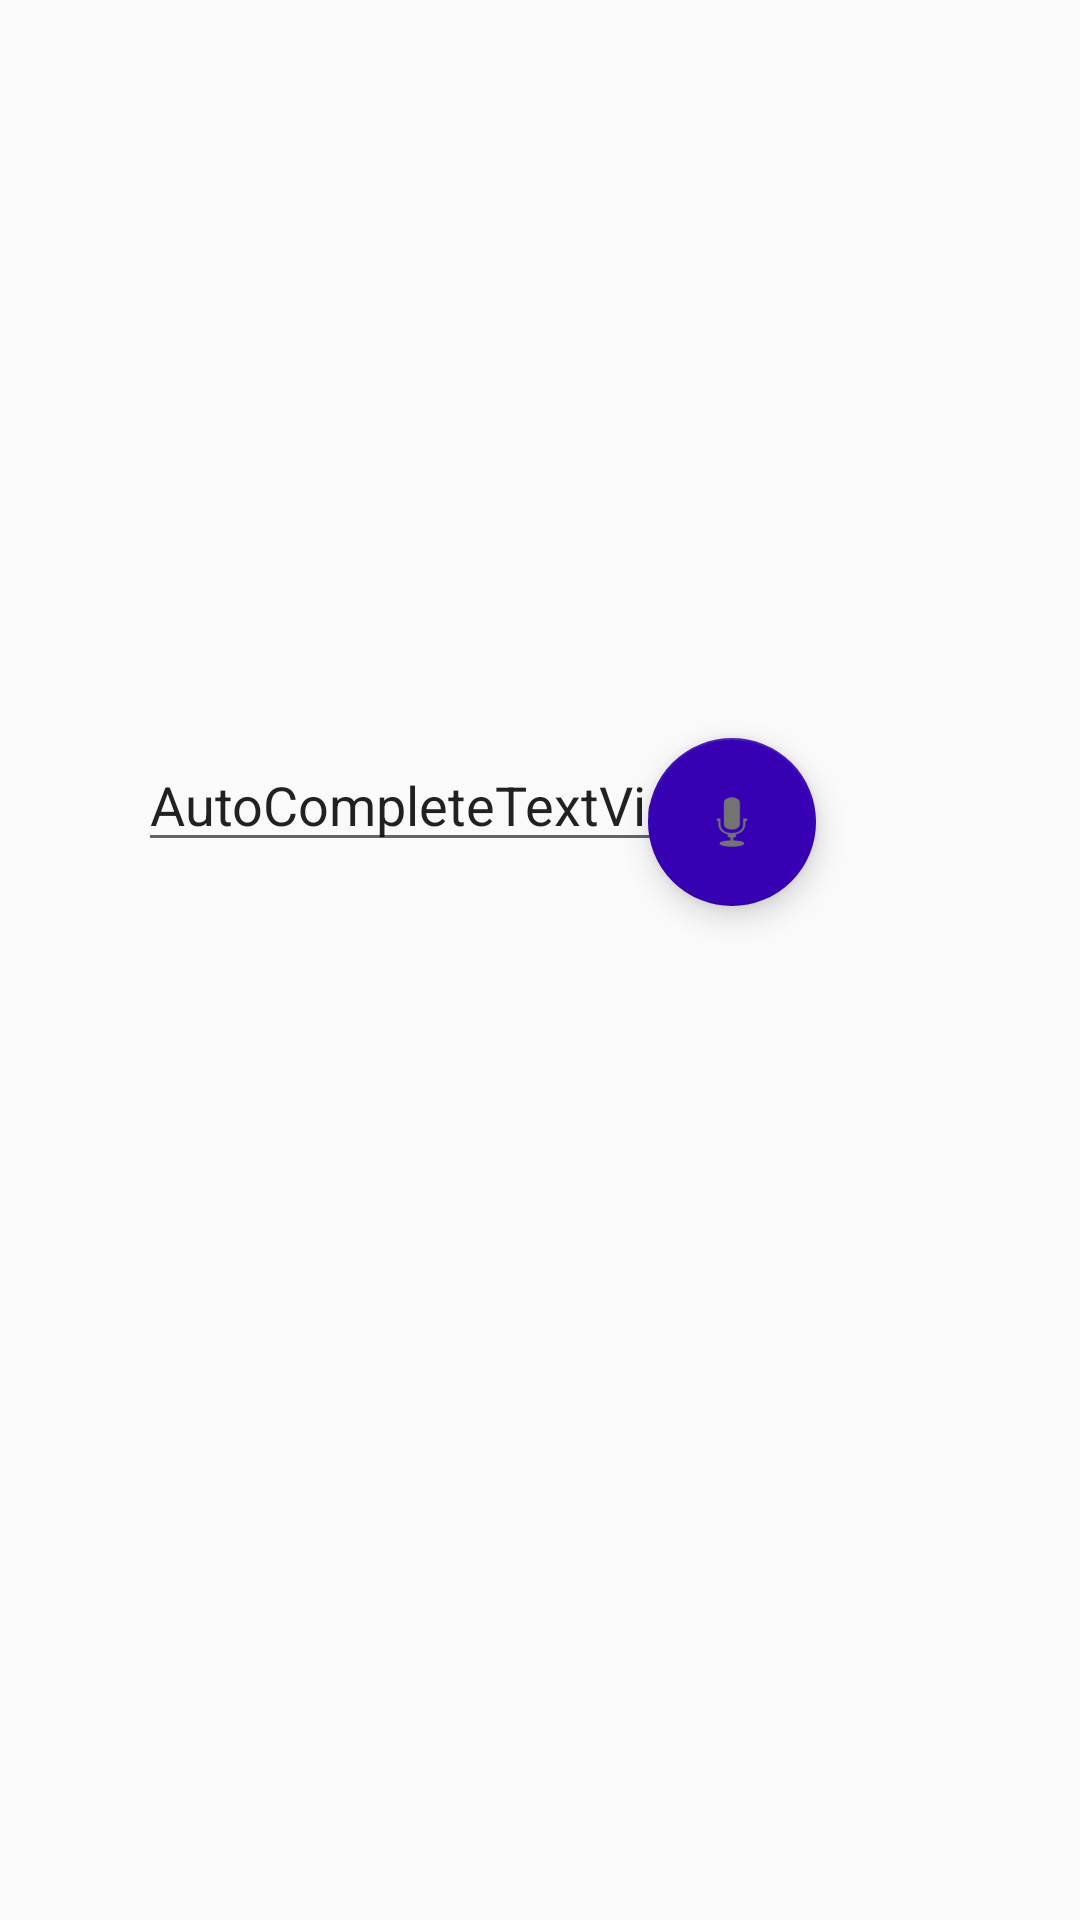

Where to tap for icons on this 1080*1920 app screen, as (x,y):
speak now: (732,822)
